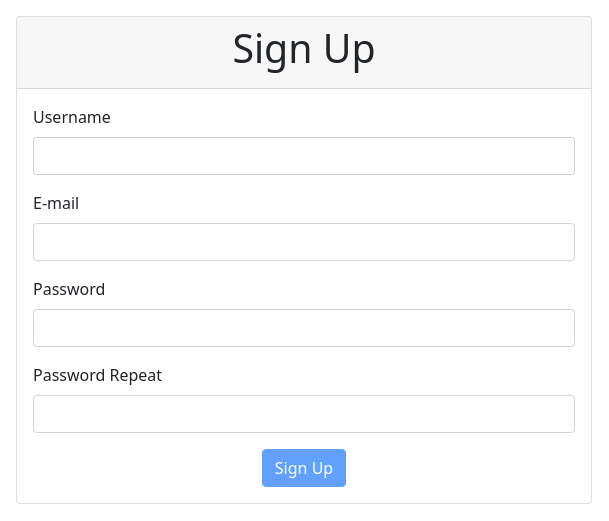
Test case: Sign Up Page › Interactions › should enables the button when password and password repeat fields have same value
The width and height of the screenshot is (609, 521).
Type "user1" into the field labelled "Username" at (304, 156), box [33,137,575,175]
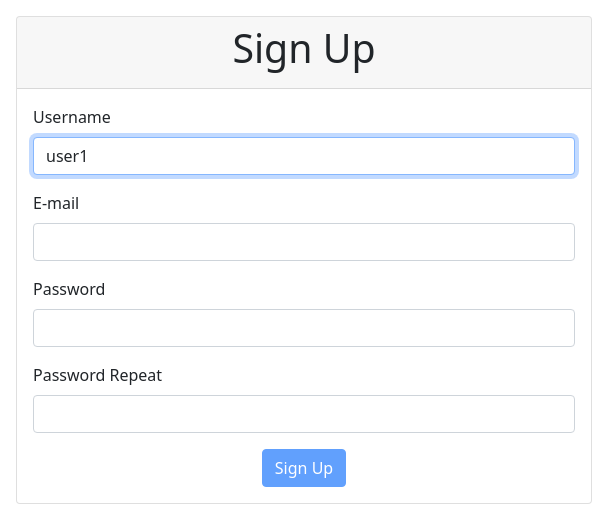
Type "user1@mail.com" into the field labelled "E-mail" at (304, 242), box [33,223,575,261]
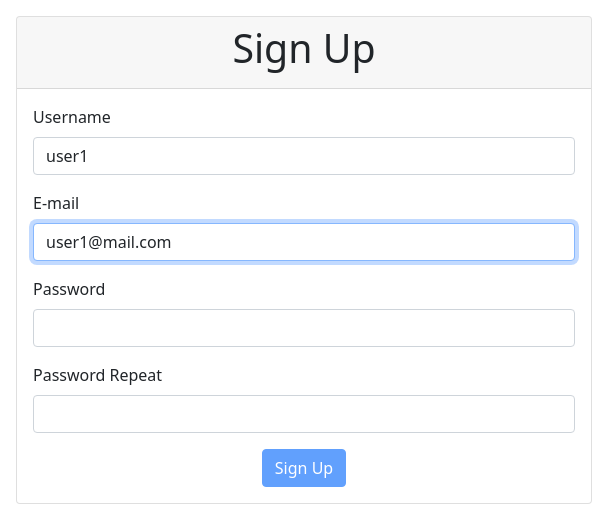
Type "Password" into the password field labelled "Password" at (304, 328), box [33,309,575,347]
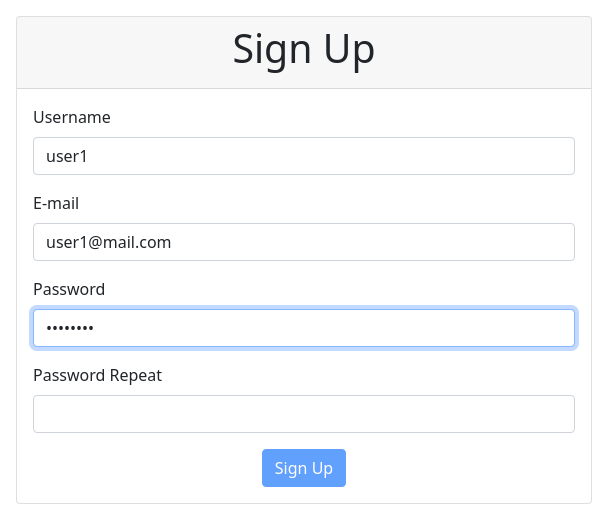
Type "Password" into the password field labelled "Password Repeat" at (304, 414), box [33,395,575,433]
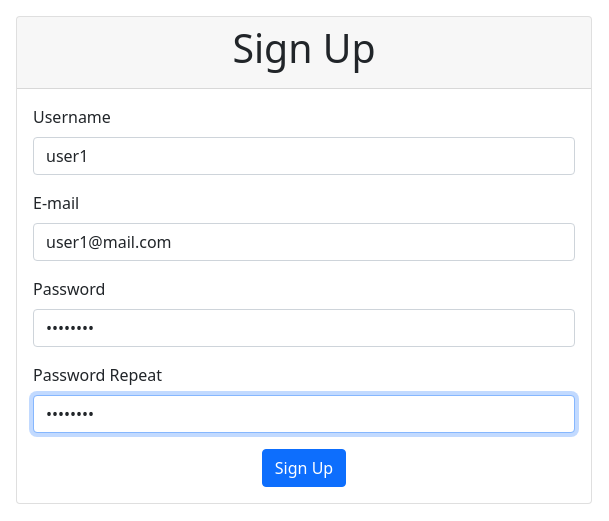
Expected: the button "Sign Up" is enabled, [262,449,346,487]
